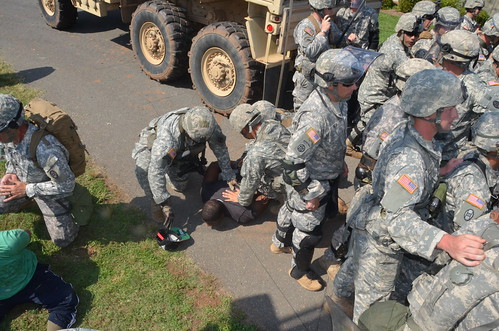soldier: (357, 74, 463, 331), (282, 50, 360, 290), (1, 88, 101, 244), (125, 99, 223, 231), (230, 98, 296, 192), (286, 1, 340, 99)
